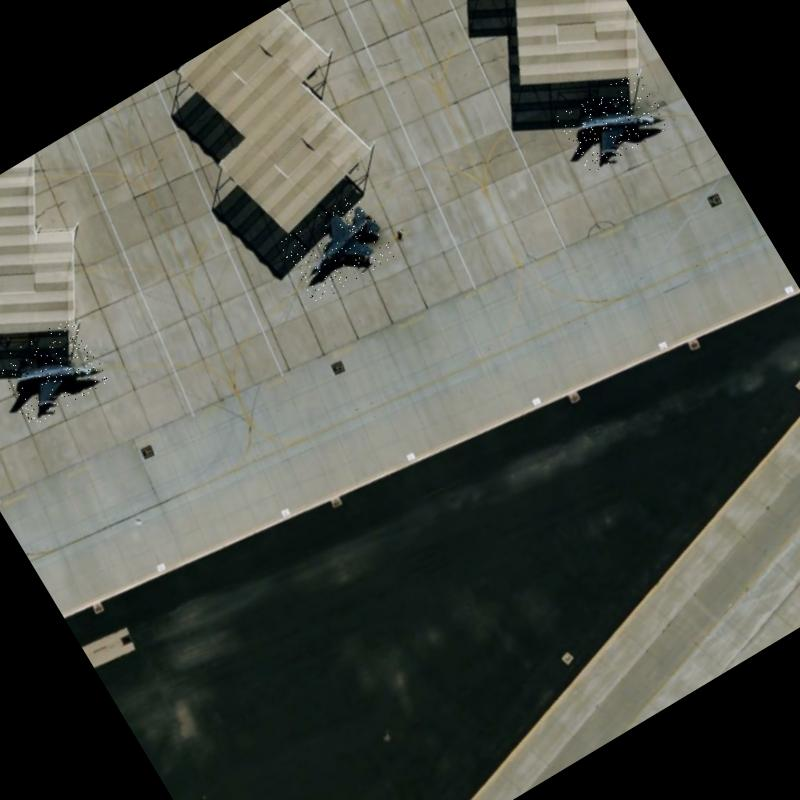A5: (276, 191, 397, 304), (0, 314, 110, 429), (555, 68, 671, 174)
